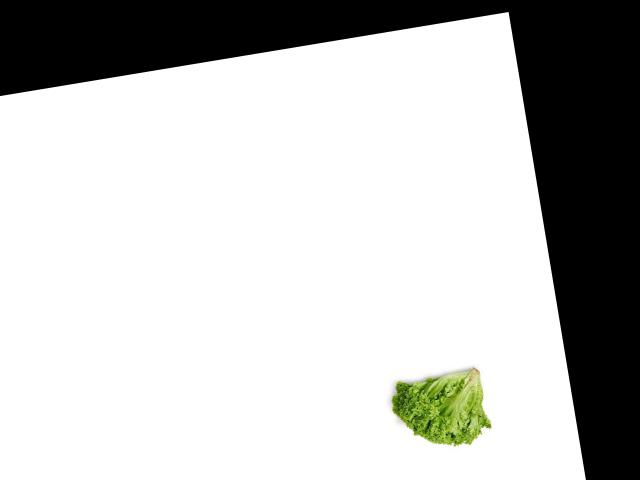lettuce: (381, 357, 498, 461)
